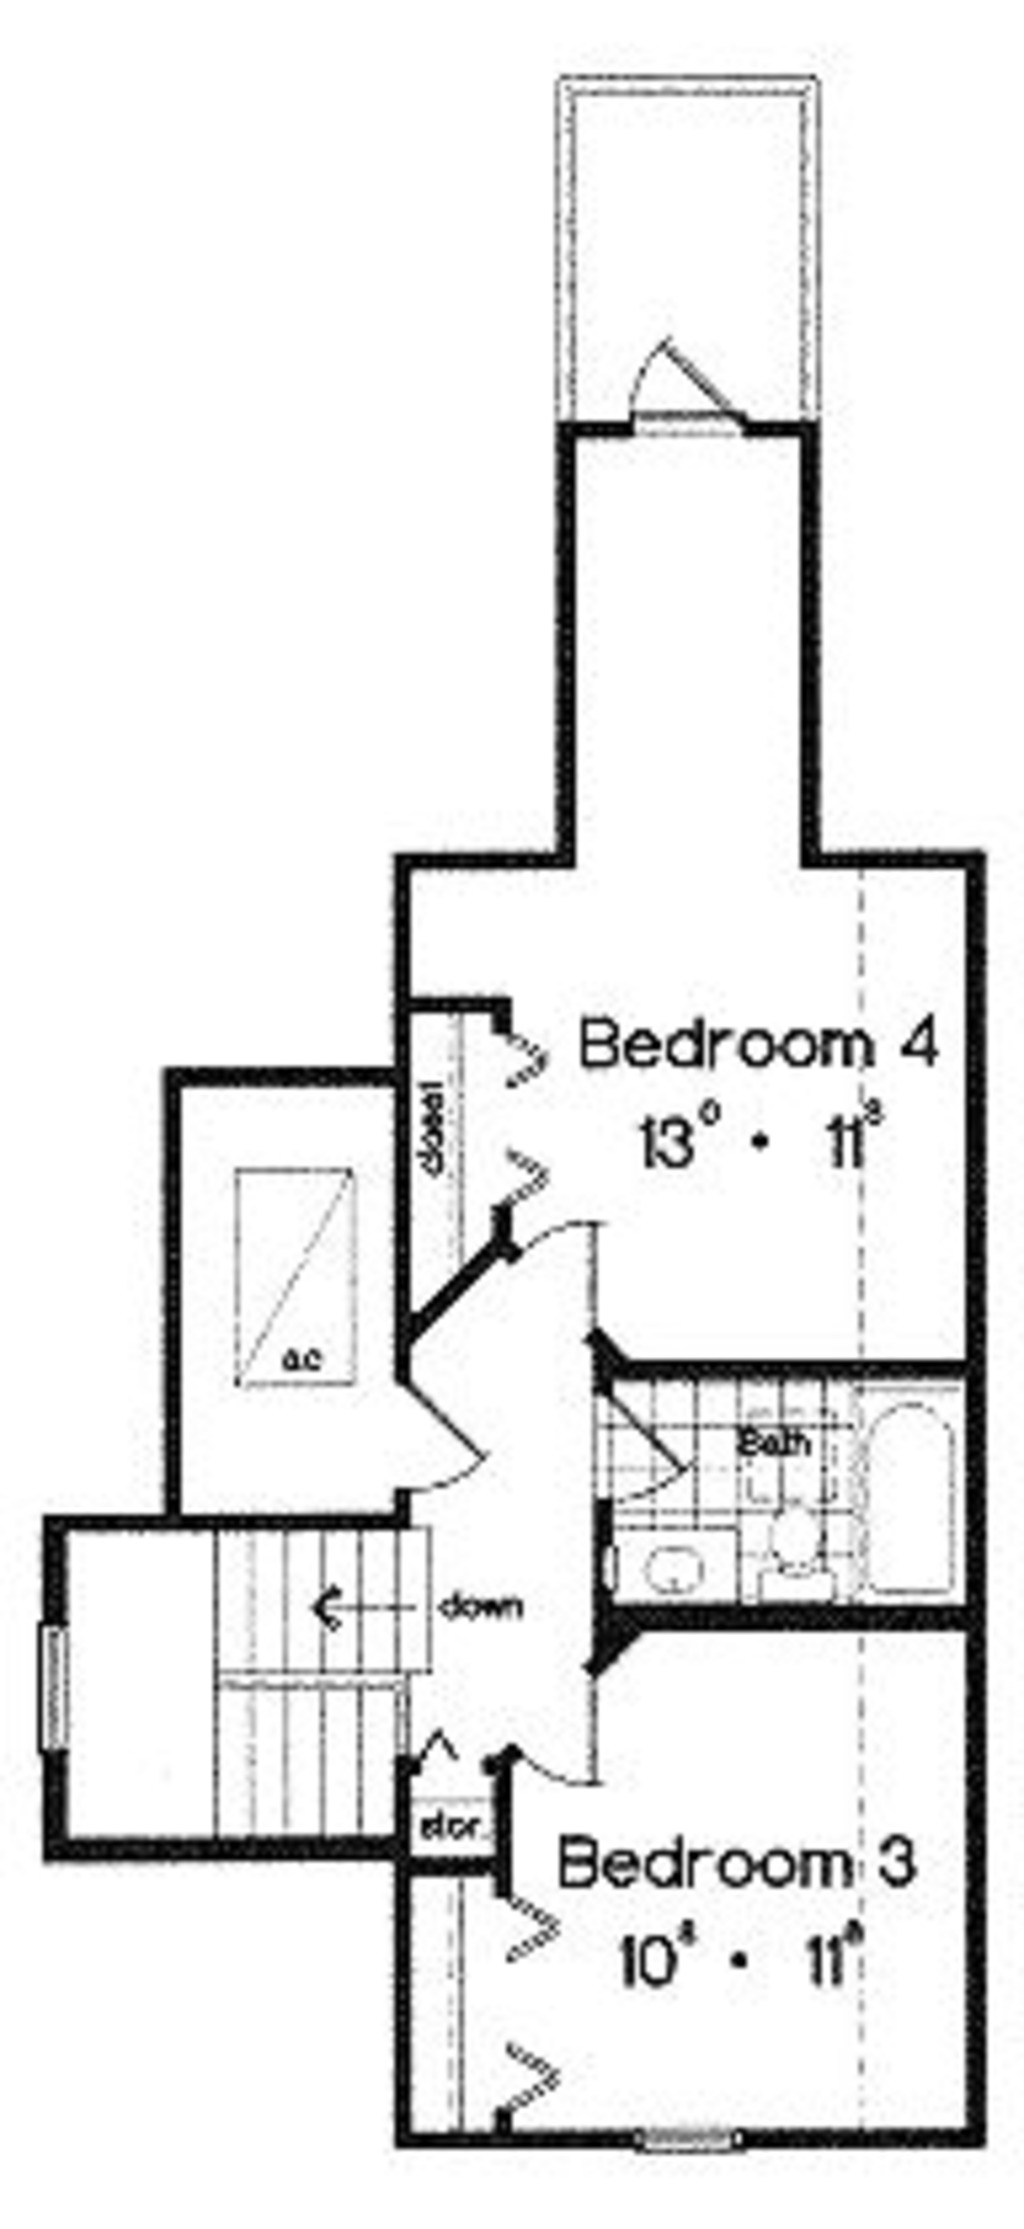door: (373, 1360, 496, 1495), (622, 333, 751, 446), (508, 1214, 610, 1338), (515, 1666, 606, 1800)
small_sink: (614, 1521, 741, 1609)
stairs: (68, 1532, 425, 1852)
tub: (863, 1385, 971, 1633)
windows: (26, 1616, 82, 1766)
